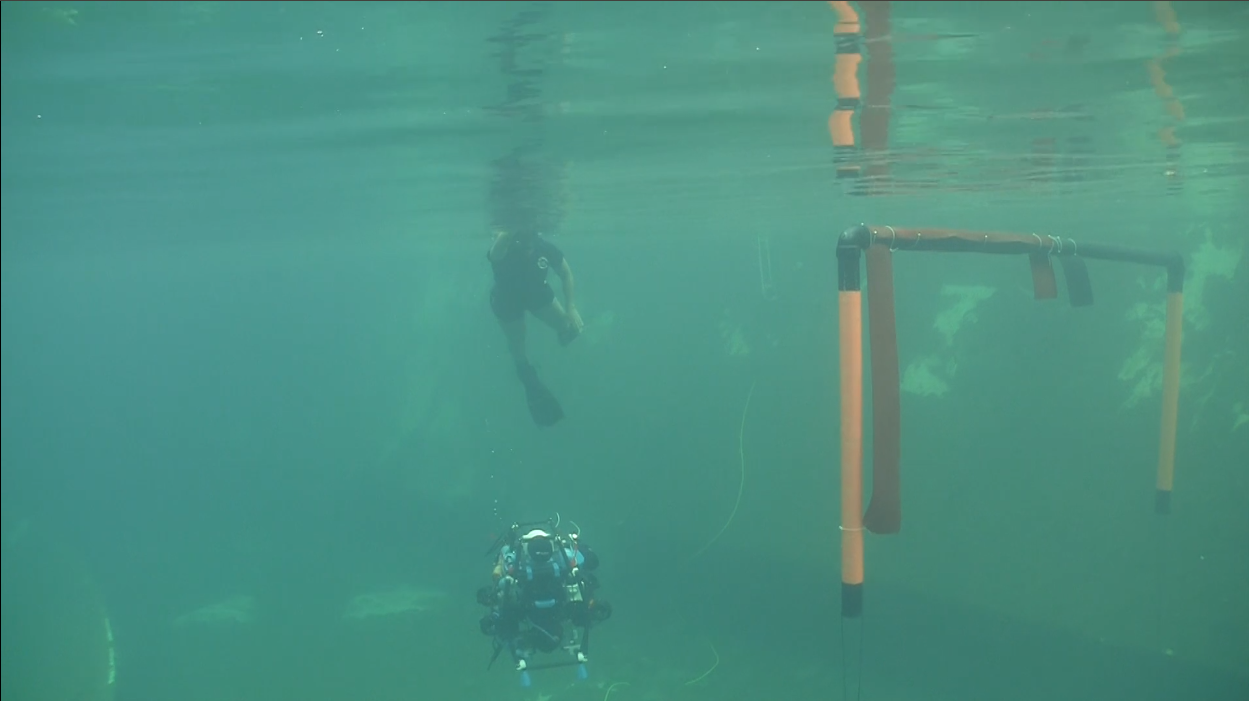gate: (814, 218, 1191, 608)
